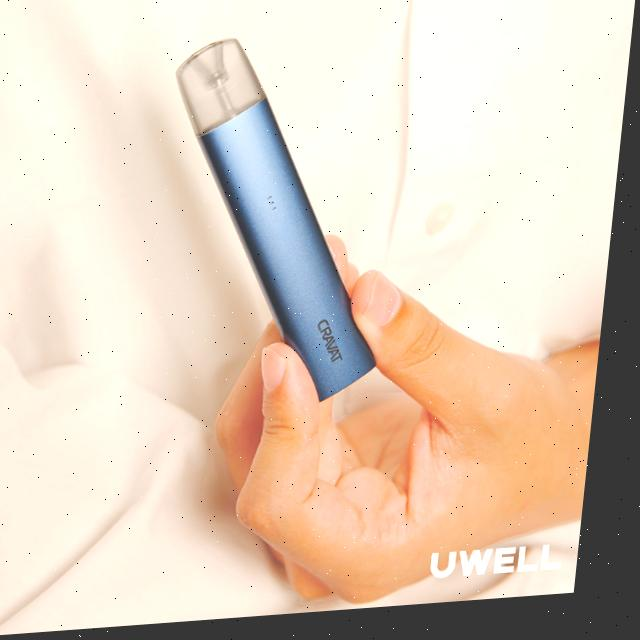vape: (149, 26, 413, 419)
